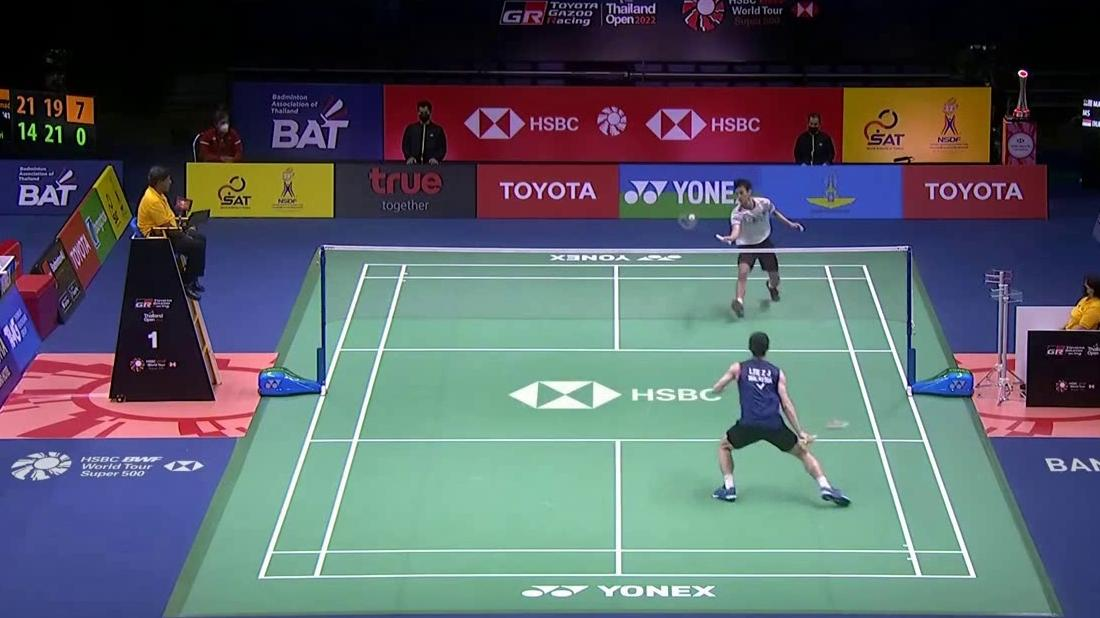racket: (677, 210, 734, 247), (800, 416, 853, 446)
shuttle: (688, 213, 697, 223)
